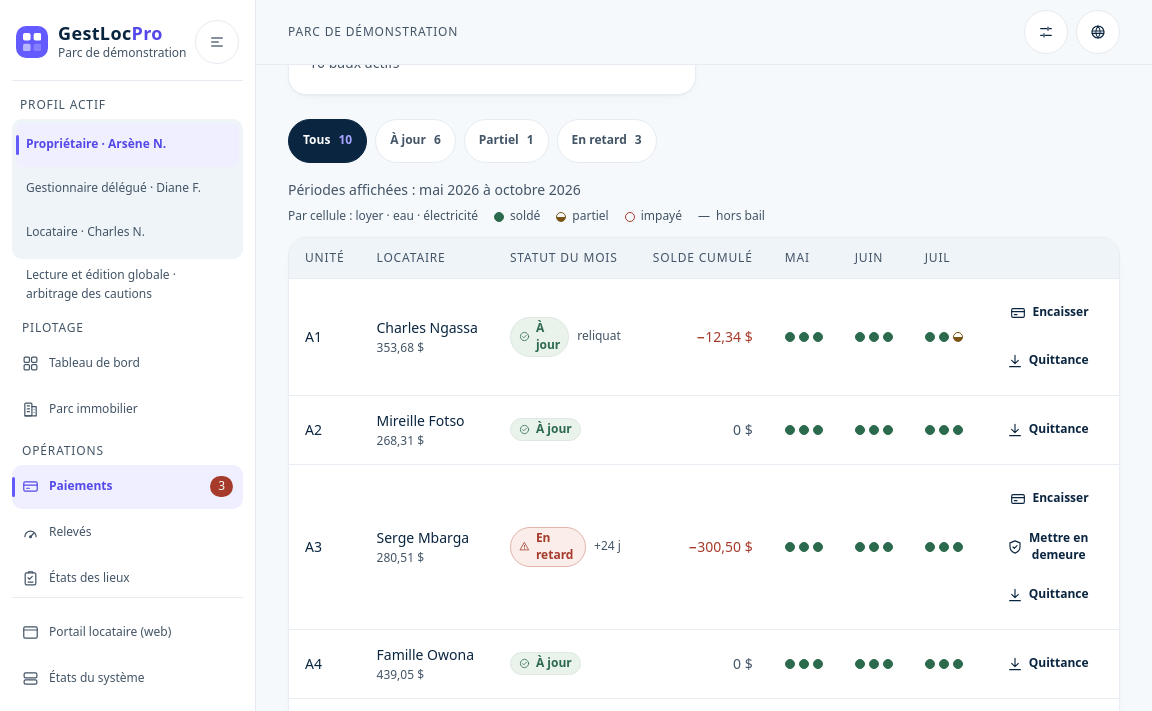
Scenario: une pièce lue en euros › date le cours quand la devise flotte
This screenshot has width=1152, height=711.
(page scrolled)
Click the button "Quittance" in the row of "A1": click(1048, 361) [993,339,1103,383]
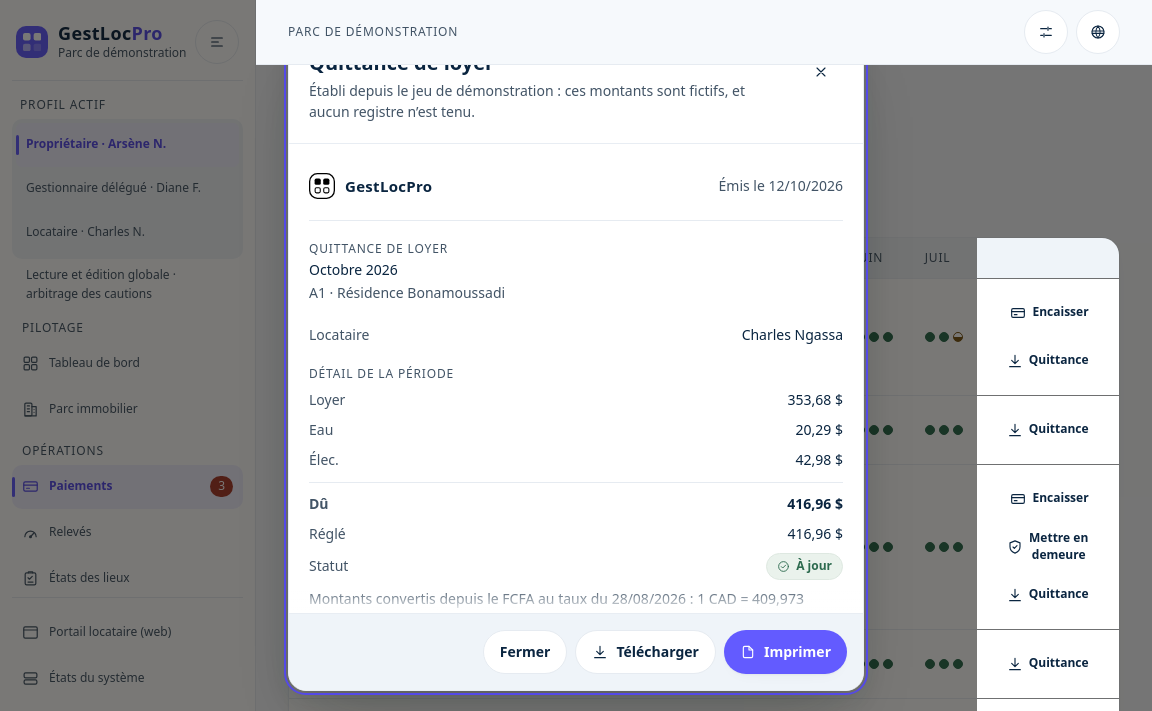
Expected: the dialog shows "28/08/2026", [309,589,804,629]
Expected: the dialog shows "1 CAD = 409,973 FCFA", [309,589,804,629]
